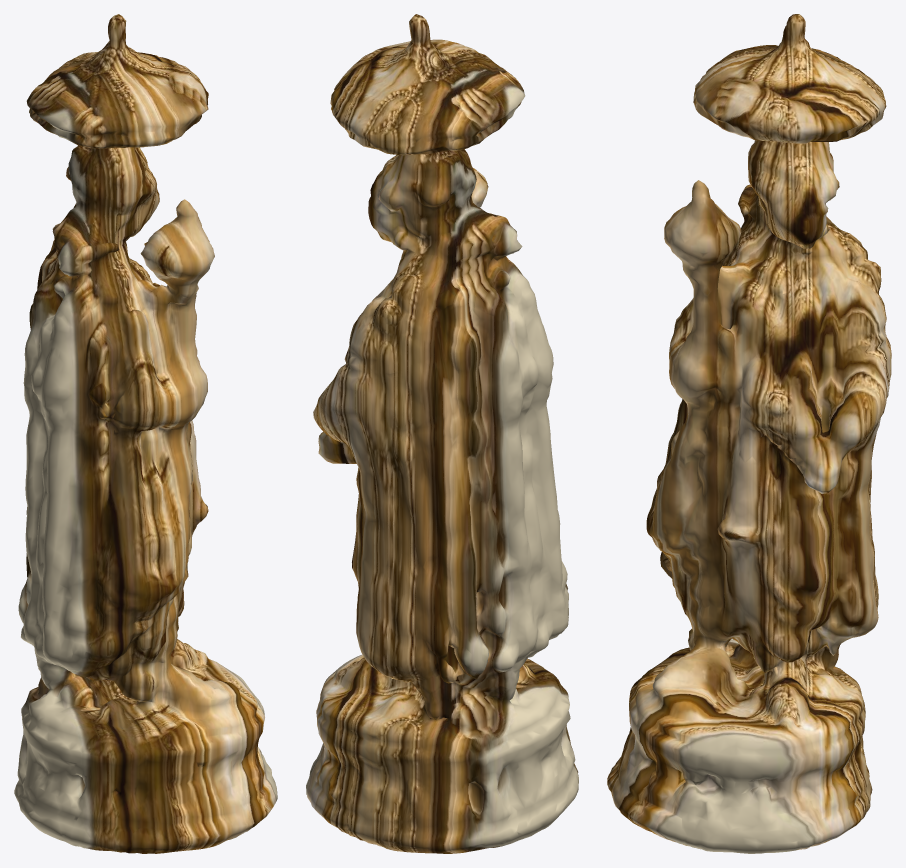
Rendered from raja.glb.
3 views of the same model, side by side, from view 1: azimuth 30°, elevation 25°; view 2: azimuth 150°, elevation 25°; view 3: azimuth 270°, elevation 25° (orthographic). The views are drawn at different scales.
Visible parts, largest first — view 1: geometry_0; view 2: geometry_0; view 3: geometry_0.
Boxes of the visible parts, bbox=[...] form: geometry_0: bbox=[14, 14, 277, 853]; geometry_0: bbox=[306, 14, 578, 853]; geometry_0: bbox=[607, 14, 891, 853].
Bounding box in the file's own units: 0.2858 × 0.9478 × 0.3066.
1 material, 1 textured.
